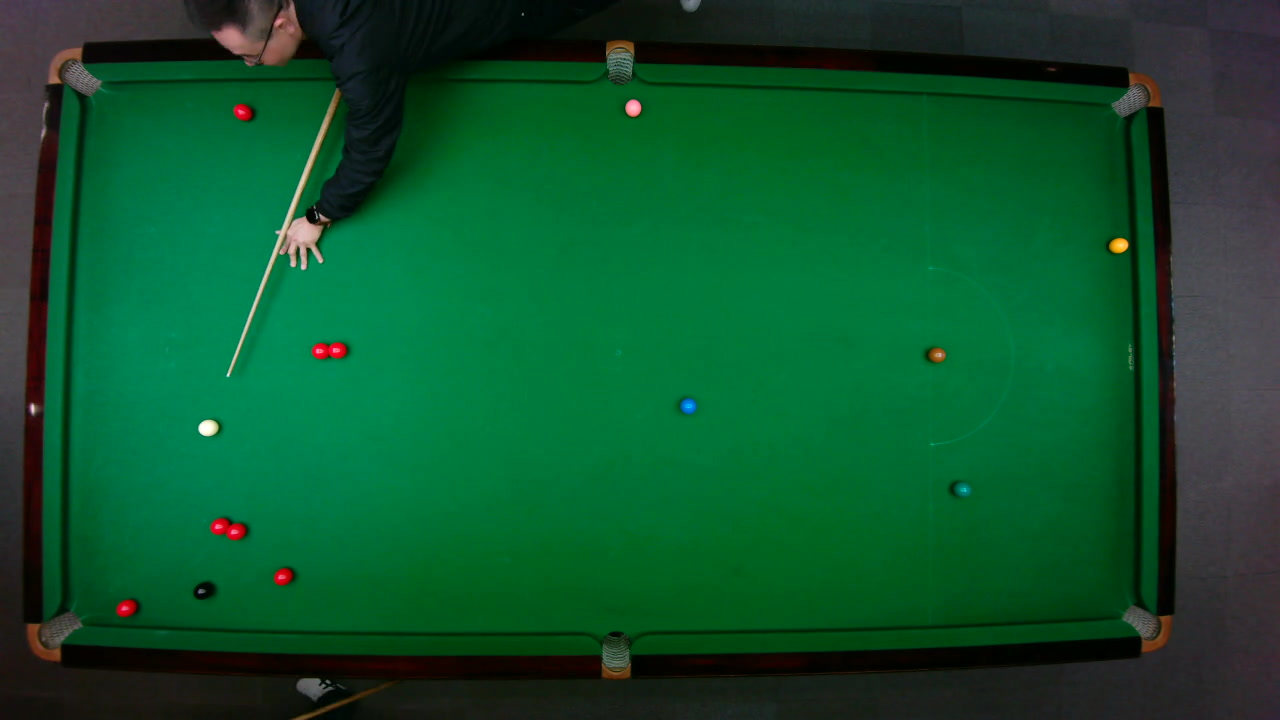bag: (25, 609, 83, 662), (45, 46, 102, 96), (1120, 603, 1172, 652), (1108, 71, 1161, 118), (600, 629, 630, 680), (605, 38, 633, 85)
black: (192, 581, 212, 600)
blue: (678, 396, 697, 414)
brown: (926, 346, 946, 362)
cue: (225, 65, 348, 379)
green: (951, 480, 972, 497)
pink: (623, 97, 642, 117)
red: (114, 597, 137, 617), (223, 521, 247, 540), (208, 516, 230, 536), (272, 566, 294, 585), (232, 102, 253, 120), (327, 341, 347, 359), (310, 342, 330, 359)
white: (196, 417, 220, 436)
yellow: (1107, 236, 1129, 253)
zone: (927, 265, 1014, 445)
